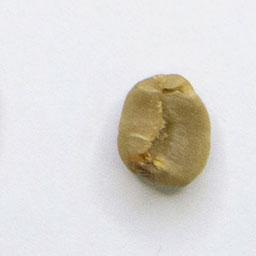premium: (115, 69, 214, 191)
